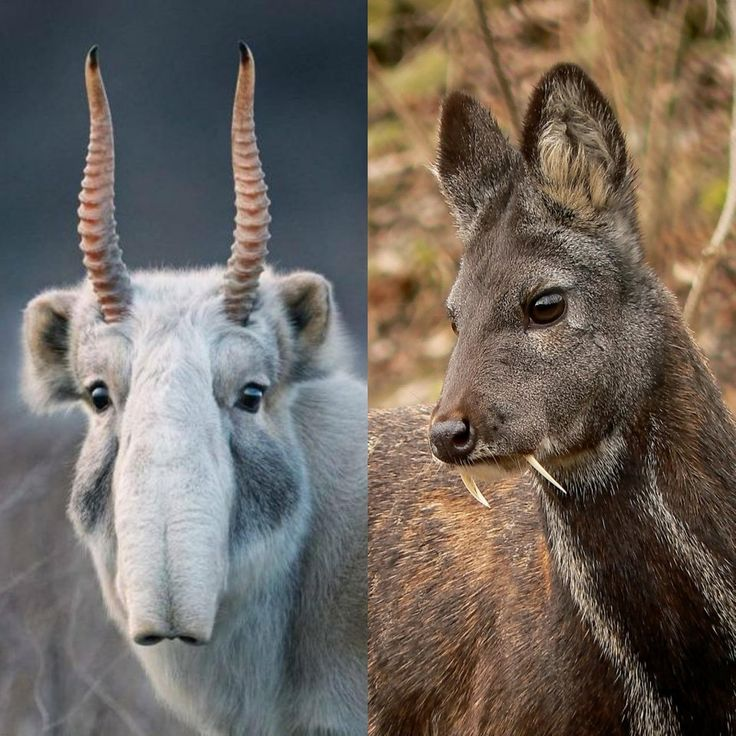saiga: (18, 46, 364, 726)
